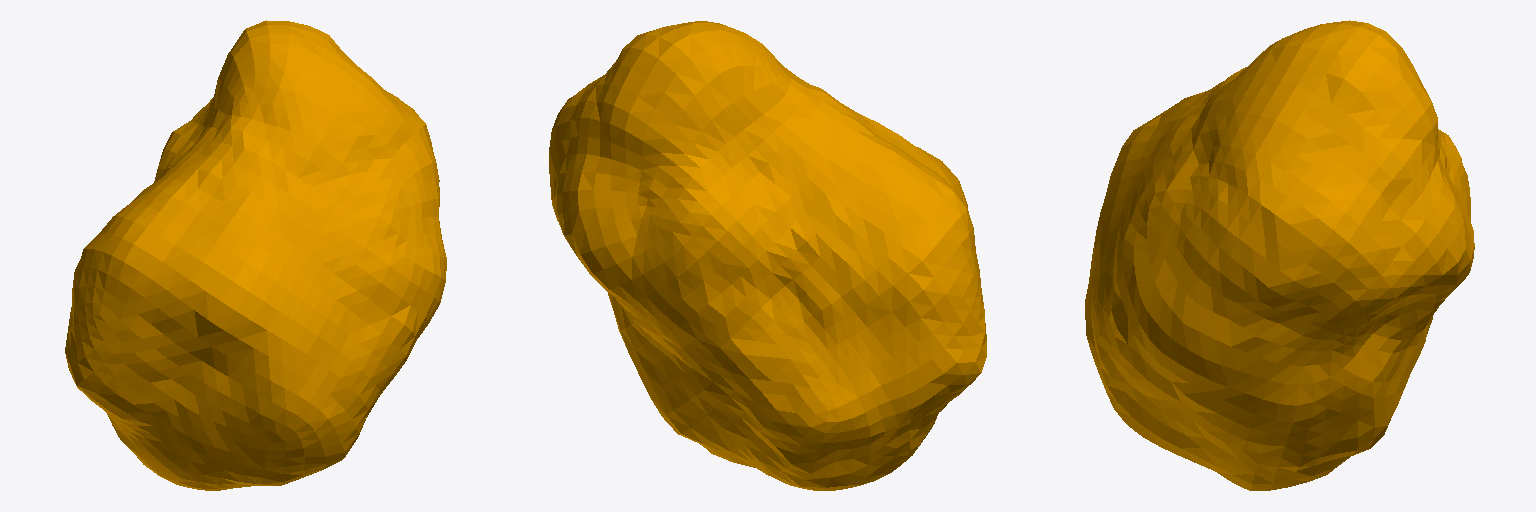
URDF robot description (rock):
<?xml version="1.0" ?>
<robot name="rock">
  <link name="rock">
    <inertial>
      <mass value="0.25"/>
      <origin rpy="0 0 0" xyz="0 0 0"/>
      <inertia ixx="0.00025" ixy="0" ixz="0" iyy="0.00025" iyz="0" izz="0.00025"/>
    </inertial>
    <collision name="rock_collision">
      <origin rpy="0 0 0" xyz="0 0 0"/>
      <geometry>
        <mesh filename="package://rocks/collision/35.stl" scale="1 1 1"/>
      </geometry>
    </collision>
    <visual name="rock_visual">
      <origin rpy="0 0 0" xyz="0 0 0"/>
      <geometry>
        <mesh filename="package://rocks/visual/35.dae" scale="1 1 1"/>
      </geometry>
    </visual>
  </link>
</robot>

--- Facts derived from the render (not from the file) ---
Views: 3 orthographic renders of the robot side by side, from view 1: azimuth 30°, elevation 25°; view 2: azimuth 150°, elevation 25°; view 3: azimuth 270°, elevation 25°.
Robot: rock — 1 links, 0 joints (none); root link rock; default pose: every joint at zero.
Links seen in each view (by area): view 1: rock; view 2: rock; view 3: rock.
Link boxes in pixels (left/top/right/bottom): rock: left=65, top=20, right=446, bottom=490; rock: left=549, top=21, right=986, bottom=490; rock: left=1085, top=20, right=1474, bottom=490.
Size in the robot's own frame: 0.0695 by 0.0554 by 0.0742 metres.
Meshes: 1 distinct files referenced, 1 mesh visuals loaded (1 Collada DAE).